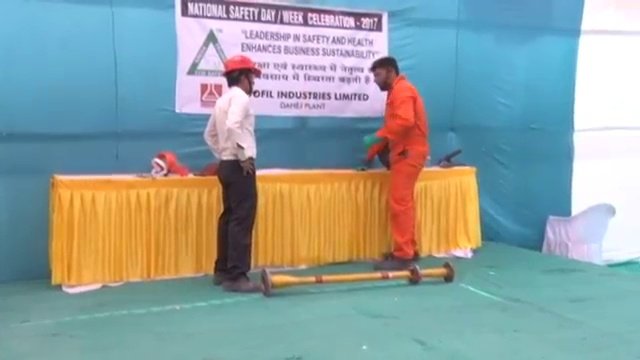helmet: (222, 52, 262, 80)
helmet_off: (368, 57, 401, 94)
helmet_on: (221, 52, 263, 95)
person: (366, 55, 430, 271), (210, 54, 267, 291)
